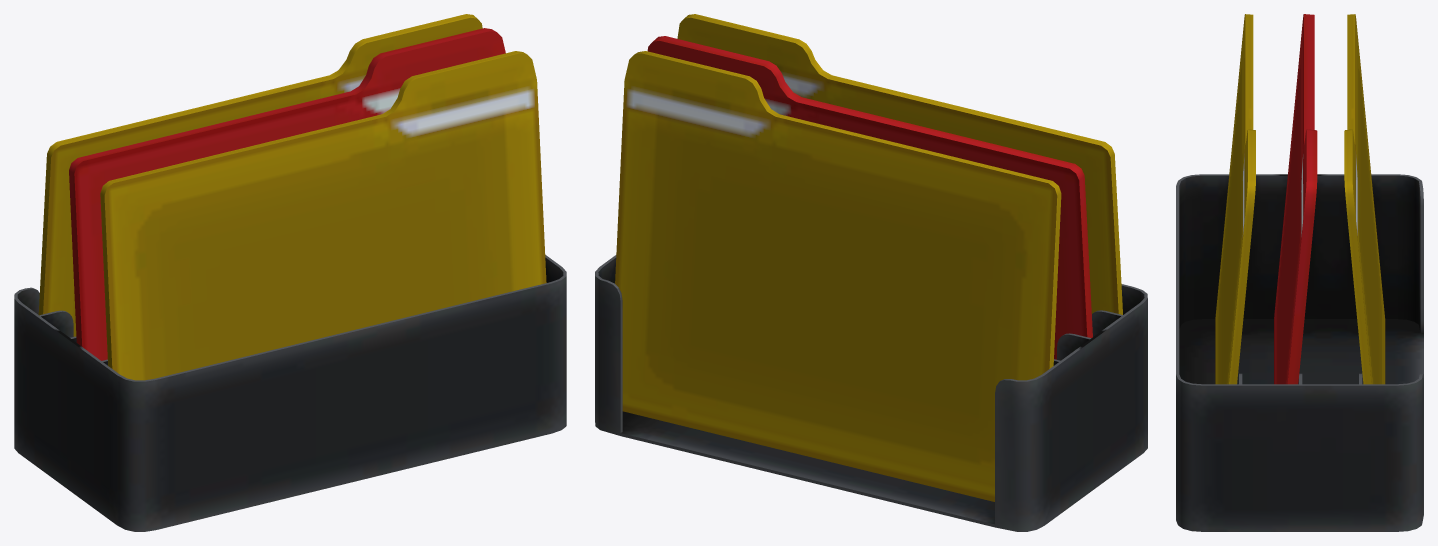
File: OfficeDeskSet02__11.fbx
The picture shows the model from 3 angles, left to right: view 1: azimuth 30°, elevation 25°; view 2: azimuth 150°, elevation 25°; view 3: azimuth 270°, elevation 25°; orthographic projection. The views are drawn at different scales.
Parts seen in each view (by area): view 1: OfficeDeskSet02; view 2: OfficeDeskSet02; view 3: OfficeDeskSet02.
Part boxes in pixels (box(x1,y1,x2,y2)): OfficeDeskSet02: box(14, 14, 566, 531); OfficeDeskSet02: box(595, 14, 1147, 531); OfficeDeskSet02: box(1176, 14, 1423, 531).
Bounding box in the file's own units: 0.31 × 0.2345 × 0.1536.
Materials: 1 (1 with a texture image).
